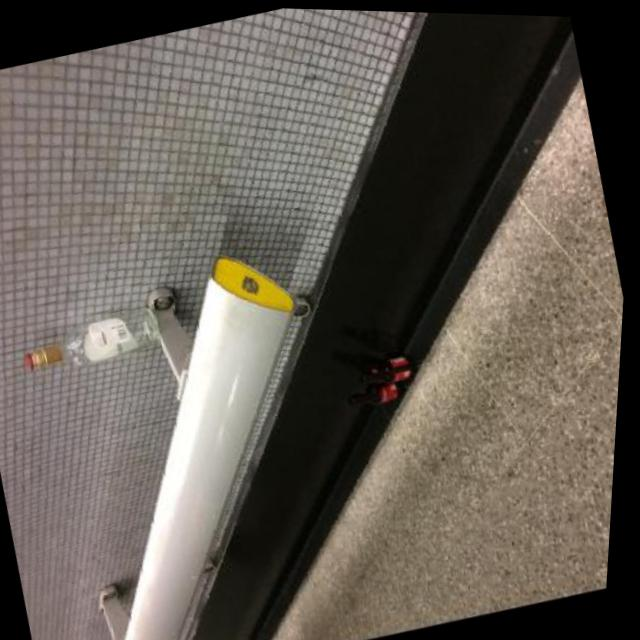glass: (18, 300, 165, 384), (356, 354, 418, 392), (345, 378, 403, 414)
